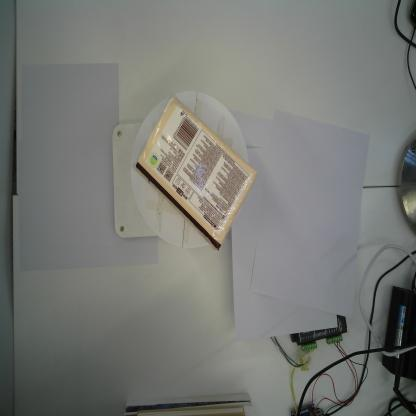Tissue: (135, 95, 257, 251)
